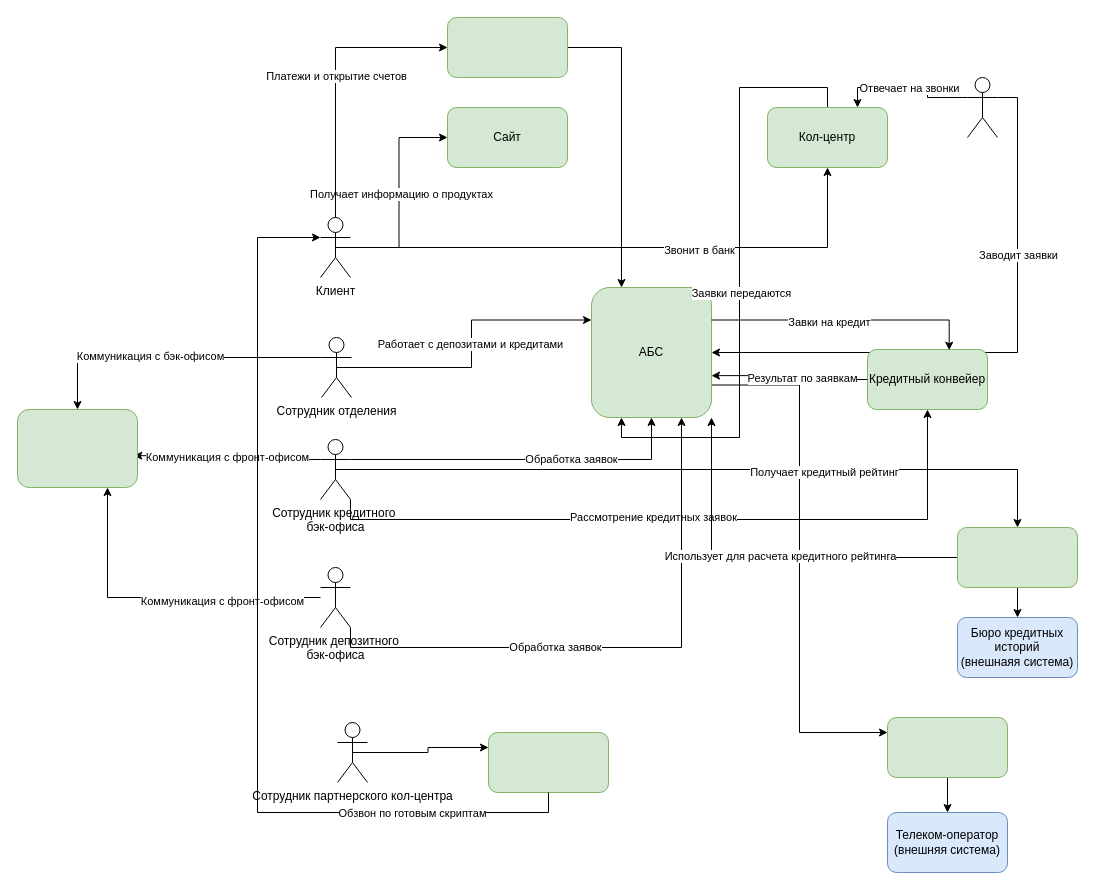
Some shapes in this 1095 by 890 pixel diagram are drawn without their labels. Here are the shapes that lost their labels. From the top down, the box of each, then its label:
(446, 16, 568, 78): Интернет-банк
(966, 76, 998, 138): Сотрудник кол-центра
(16, 408, 138, 488): Почтовая система
(956, 526, 1078, 588): Система кредитного скоринга
(488, 732, 608, 792): Партнерский кол-центр
(886, 716, 1008, 778): Шлюз для нотификации
